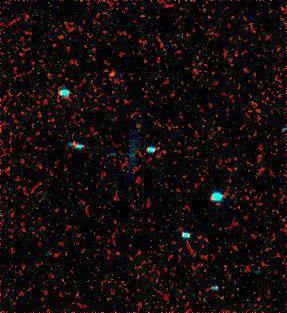star: (96, 59, 126, 89)
